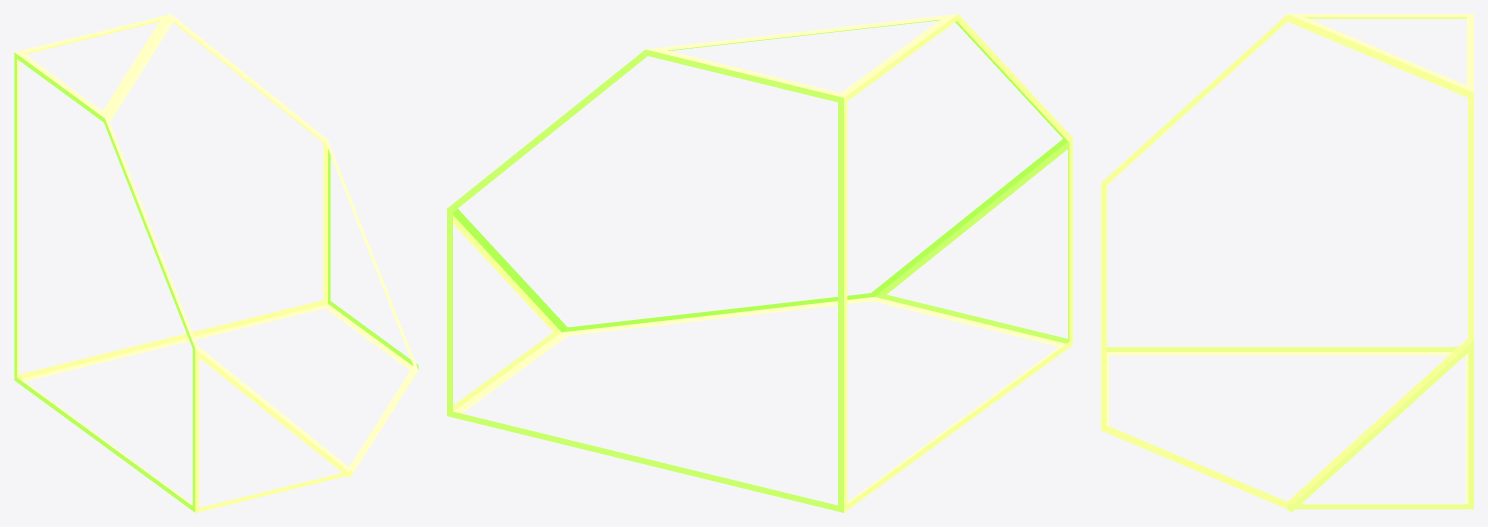
The model's file is r5c7_highlight_green.glb.
3 renders of one model, left to right at view 1: azimuth 30°, elevation 25°; view 2: azimuth 150°, elevation 25°; view 3: azimuth 270°, elevation 25°, orthographic. The views are drawn at different scales.
Parts seen in each view (by area): view 1: r5c7_highlight_green; view 2: r5c7_highlight_green; view 3: r5c7_highlight_green.
Part boxes in pixels (x1,y1,x2,y2): r5c7_highlight_green: (14,14,418,512); r5c7_highlight_green: (447,14,1072,512); r5c7_highlight_green: (1101,14,1473,512).
Bounding box in the file's own units: 2 × 2.02 × 2.
